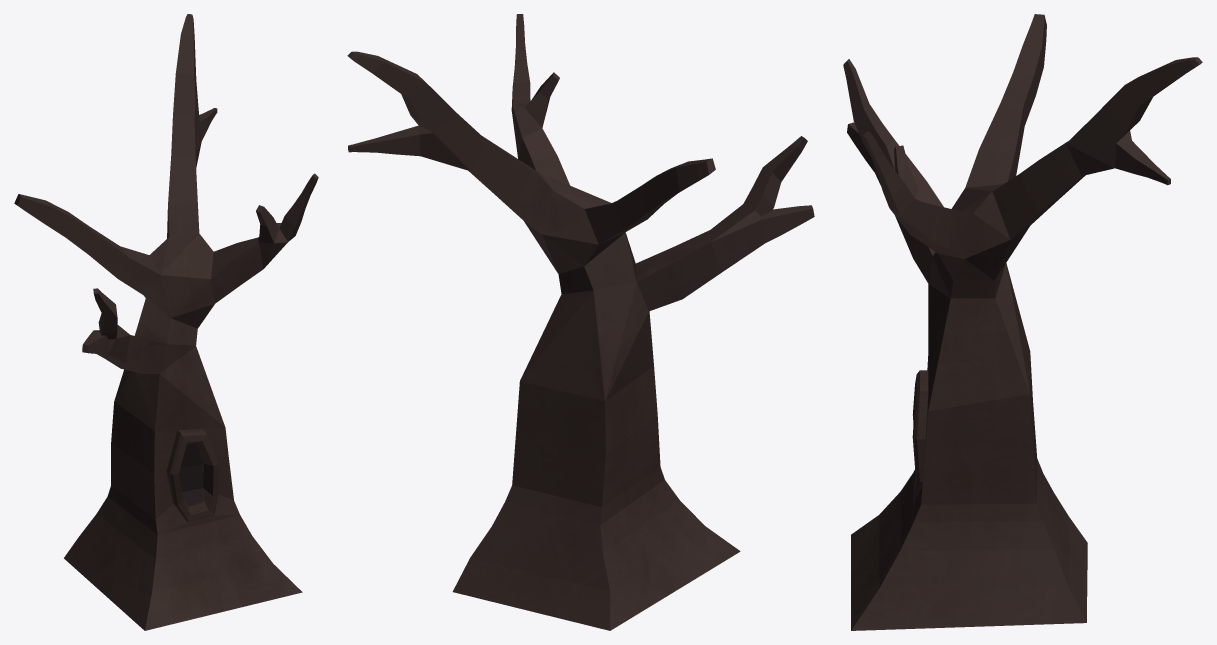
File: 3DObj_TreeHole_v0.fbx
The picture shows the model from 3 angles, left to right: view 1: azimuth 30°, elevation 25°; view 2: azimuth 150°, elevation 25°; view 3: azimuth 270°, elevation 25°; orthographic projection. The views are drawn at different scales.
Visible parts, largest first — view 1: 3DObj_TreeHole_v0; view 2: 3DObj_TreeHole_v0; view 3: 3DObj_TreeHole_v0.
Boxes of the visible parts, x1,y1,x2,y2 form: 3DObj_TreeHole_v0: (14,14,318,630); 3DObj_TreeHole_v0: (347,14,814,630); 3DObj_TreeHole_v0: (843,14,1202,630).
Bounding box in the file's own units: 206 × 355 × 197.
Materials: 1 (1 with a texture image).
